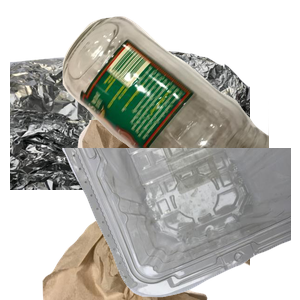glass: (60, 14, 300, 194)
metal: (10, 47, 250, 227)
plastic: (60, 148, 300, 300)
trash: (40, 120, 280, 300)
